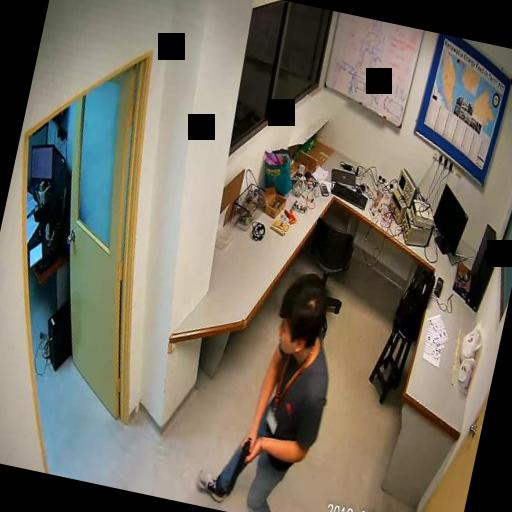Handgun: (224, 433, 252, 497)
